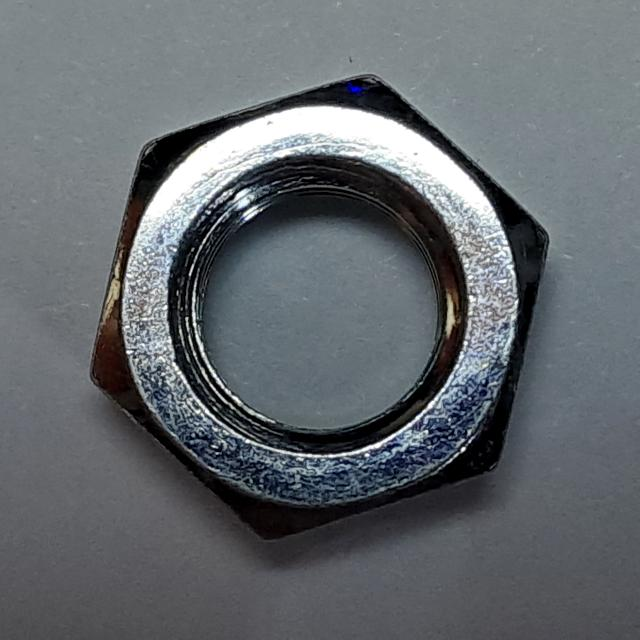Excellent: (74, 51, 566, 551)
